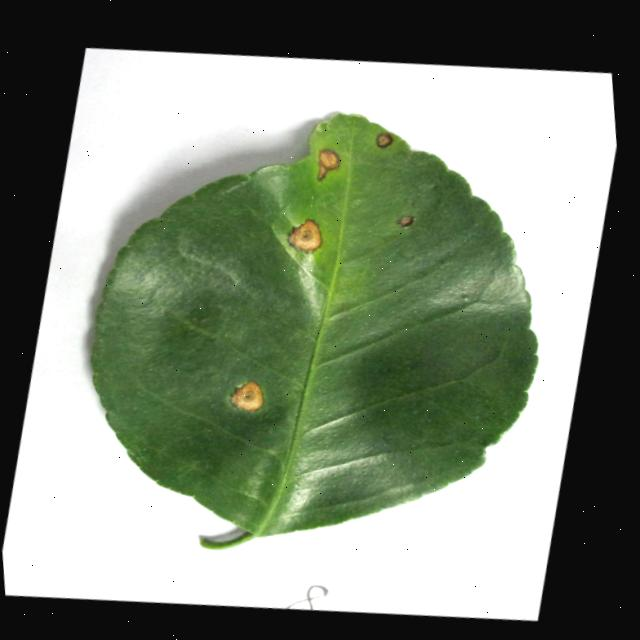antracnose: (92, 113, 537, 548), (288, 219, 321, 251), (230, 380, 263, 410), (318, 148, 340, 179), (377, 132, 393, 145), (397, 215, 415, 226)
